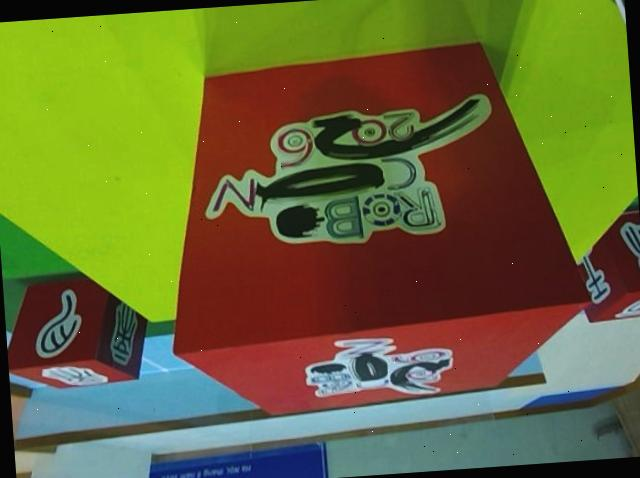R1: (152, 32, 591, 422)
R2 Fake: (3, 274, 153, 395), (573, 210, 640, 324)
